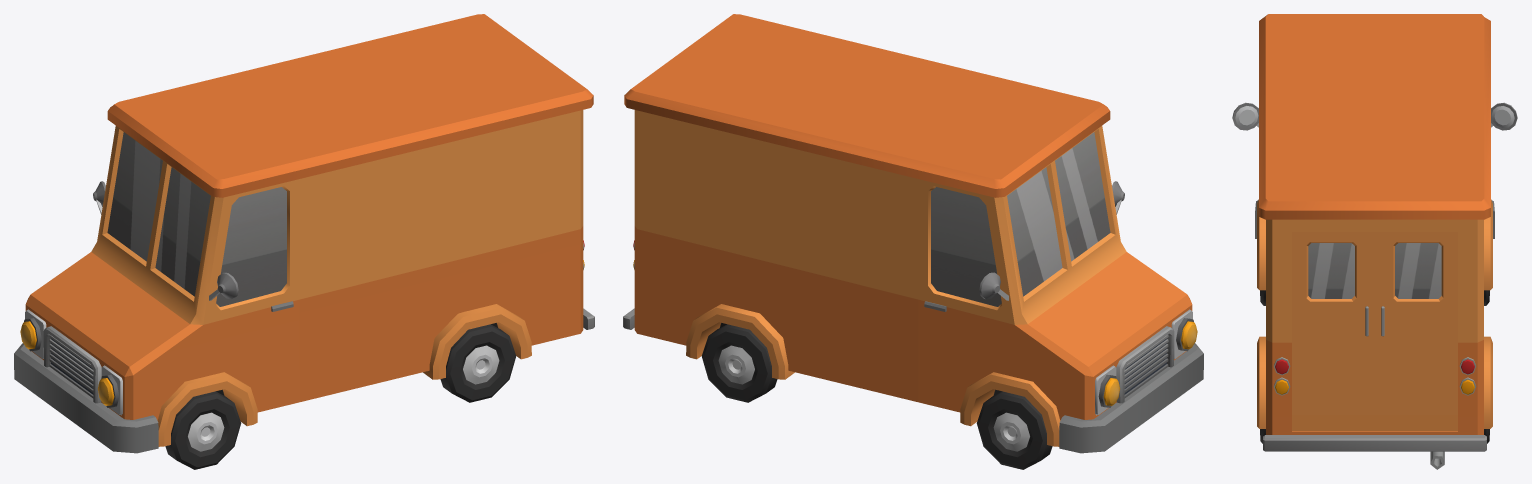
Rendered from Car_16_M.gltf.
3 renders of one model, left to right at view 1: azimuth 30°, elevation 25°; view 2: azimuth 150°, elevation 25°; view 3: azimuth 270°, elevation 25°, orthographic. The views are drawn at different scales.
Parts seen in each view (by area): view 1: Car_16_M, RL, FL; view 2: Car_16_M, RR, FR; view 3: Car_16_M.
Boxes of the visible parts, <box> form: Car_16_M: <box>14,14,594,453</box>; RL: <box>440,324,516,402</box>; FL: <box>165,391,241,469</box>; Car_16_M: <box>623,14,1203,453</box>; RR: <box>701,324,777,402</box>; FR: <box>976,391,1052,469</box>; Car_16_M: <box>1232,14,1517,469</box>.
Size of the model in its own units: 3.66 by 2.04 by 1.8.
4 materials, 4 textured.
